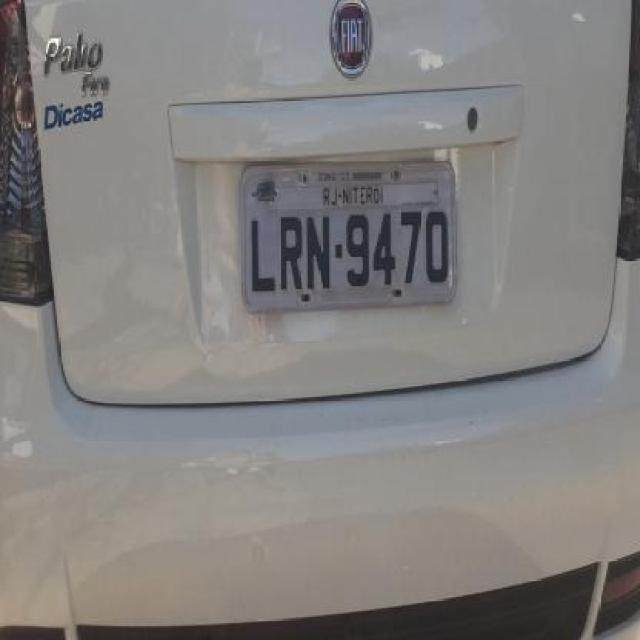old_plate: (234, 149, 462, 321)
